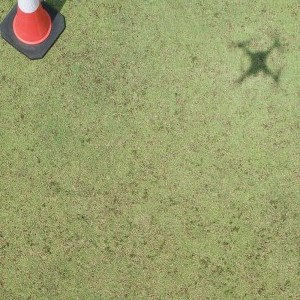traffic cone: (1, 1, 66, 59)
